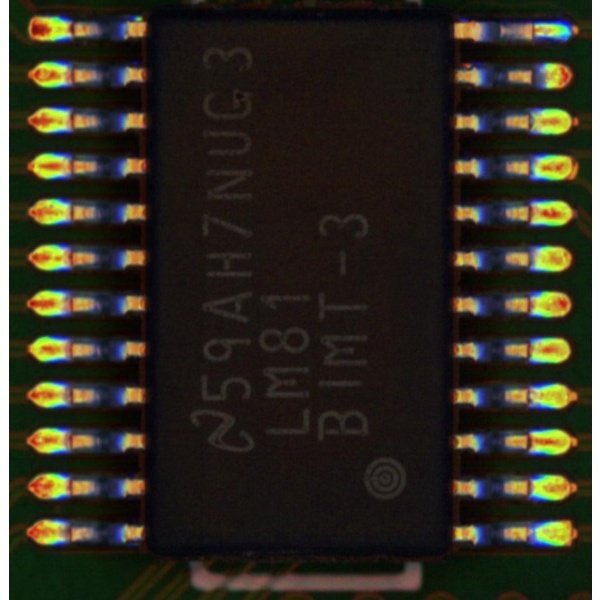Bad_podu: (515, 437, 545, 449), (55, 252, 81, 264), (521, 26, 546, 36)
